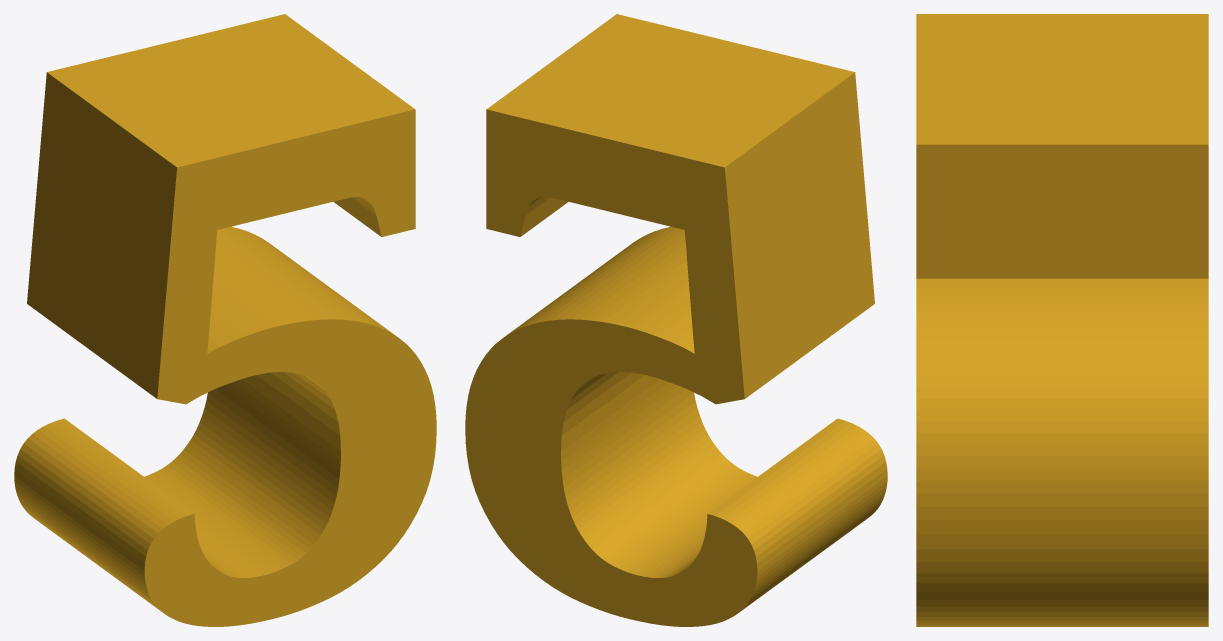
Rendered from tinker.obj.
The picture shows the model from 3 angles, left to right: view 1: azimuth 30°, elevation 25°; view 2: azimuth 150°, elevation 25°; view 3: azimuth 270°, elevation 25°; orthographic projection. The views are drawn at different scales.
Visible parts, largest first — view 1: obj_0; view 2: obj_0; view 3: obj_0.
Part boxes in pixels (<box>): obj_0: <box>14,14,436,626</box>; obj_0: <box>465,14,887,626</box>; obj_0: <box>916,14,1208,626</box>.
Bounding box in the file's own units: 12.94 × 20.1 × 10.
